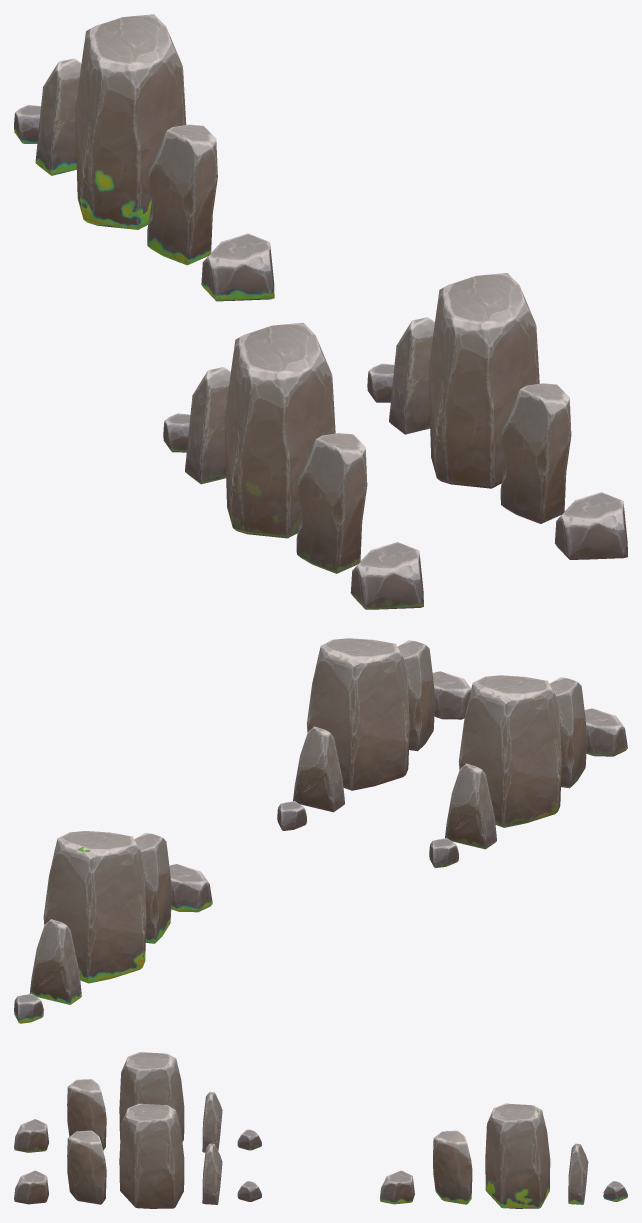
The model's file is stones.glb.
3 renders of one model, top to bottom at view 1: azimuth 30°, elevation 25°; view 2: azimuth 150°, elevation 25°; view 3: azimuth 270°, elevation 25°, orthographic. The views are drawn at different scales.
Parts seen in each view (by area): view 1: Stone_5_Low, Stone_5_Low002, Stone_5_Low001, Stone_4_Low, Stone_4_Low002, Stone_4_Low001, Stone_2_Low, Stone_2_Low001, Stone_2_Low002, Stone_3_Low, Stone_3_Low001, Stone_3_Low002 (+3 smaller); view 2: Stone_5_Low002, Stone_5_Low001, Stone_5_Low, Stone_3_Low, Stone_3_Low002, Stone_3_Low001, Stone_4_Low001, Stone_4_Low, Stone_4_Low002, Stone_2_Low002, Stone_2_Low, Stone_2_Low001 (+3 smaller); view 3: Stone_5_Low001, Stone_5_Low, Stone_5_Low002, Stone_4_Low001, Stone_4_Low, Stone_4_Low002, Stone_3_Low, Stone_3_Low001, Stone_2_Low001, Stone_2_Low002, Stone_2_Low, Stone_3_Low002 (+3 smaller).
Boxes of the visible parts, bbox=[...] form: Stone_5_Low: bbox=[75, 14, 186, 229]; Stone_5_Low002: bbox=[224, 322, 335, 538]; Stone_5_Low001: bbox=[428, 273, 539, 488]; Stone_4_Low: bbox=[147, 124, 217, 265]; Stone_4_Low002: bbox=[296, 433, 367, 573]; Stone_4_Low001: bbox=[500, 383, 571, 523]; Stone_2_Low: bbox=[201, 233, 274, 301]; Stone_2_Low001: bbox=[555, 492, 627, 559]; Stone_2_Low002: bbox=[350, 542, 423, 609]; Stone_3_Low: bbox=[35, 58, 81, 175]; Stone_3_Low001: bbox=[389, 317, 434, 434]; Stone_3_Low002: bbox=[185, 367, 230, 484]; Stone_5_Low002: bbox=[458, 675, 561, 827]; Stone_5_Low001: bbox=[307, 638, 409, 790]; Stone_5_Low: bbox=[43, 831, 146, 983]; Stone_3_Low: bbox=[29, 919, 81, 1004]; Stone_3_Low002: bbox=[445, 763, 496, 849]; Stone_3_Low001: bbox=[293, 726, 344, 812]; Stone_4_Low001: bbox=[398, 640, 435, 751]; Stone_4_Low: bbox=[134, 833, 171, 943]; Stone_4_Low002: bbox=[549, 677, 587, 788]; Stone_2_Low002: bbox=[584, 708, 627, 756]; Stone_2_Low: bbox=[169, 864, 212, 912]; Stone_2_Low001: bbox=[432, 671, 471, 719]; Stone_5_Low001: bbox=[119, 1103, 184, 1208]; Stone_5_Low: bbox=[485, 1103, 550, 1208]; Stone_5_Low002: bbox=[119, 1052, 184, 1141]; Stone_4_Low001: bbox=[67, 1130, 106, 1204]; Stone_4_Low: bbox=[433, 1130, 472, 1204]; Stone_4_Low002: bbox=[67, 1079, 106, 1150]; Stone_3_Low: bbox=[568, 1143, 588, 1204]; Stone_3_Low001: bbox=[202, 1143, 222, 1204]; Stone_2_Low001: bbox=[14, 1170, 48, 1204]; Stone_2_Low002: bbox=[14, 1119, 48, 1152]; Stone_2_Low: bbox=[380, 1170, 414, 1204]; Stone_3_Low002: bbox=[202, 1092, 222, 1152].
Bounding box in the file's own units: 304 × 166 × 1007.
3 materials, 3 textured.
